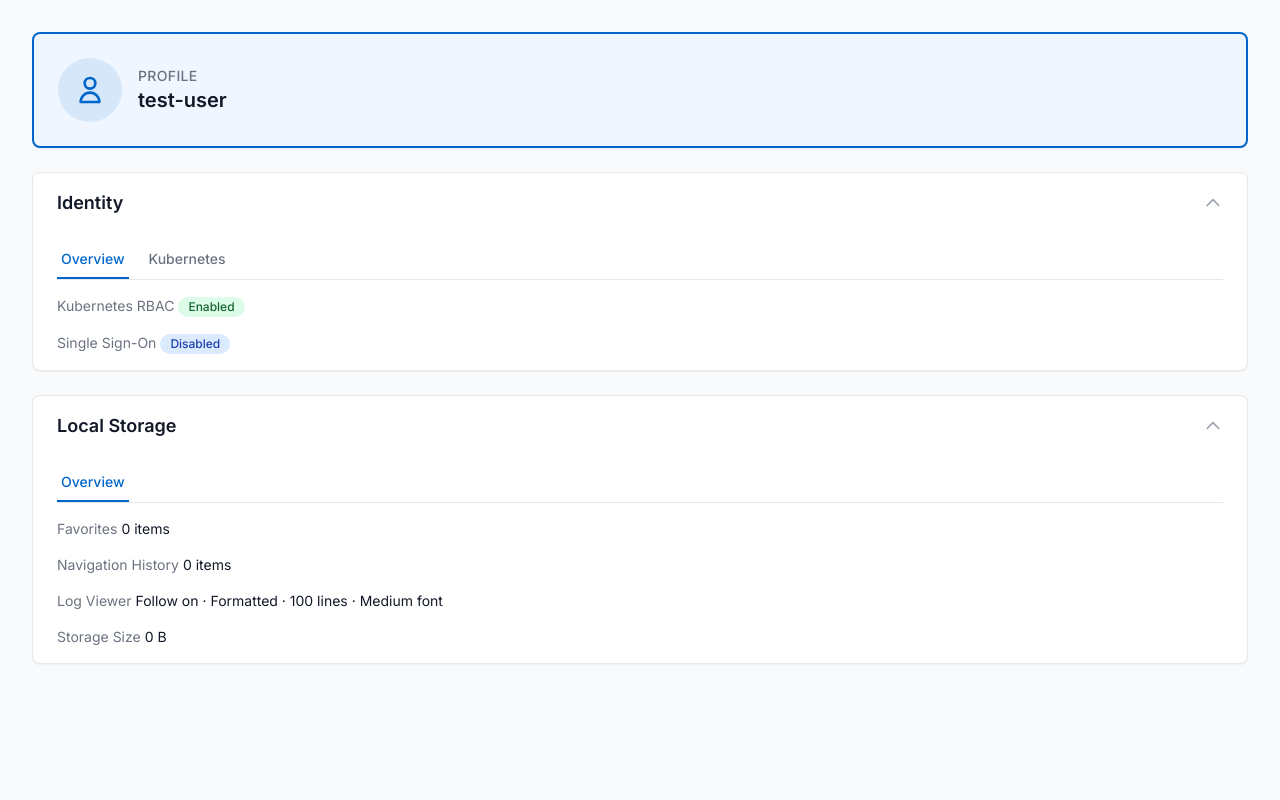
Scenario: ProfilePage › Identity Panel - Kubernetes Tab › should show impersonation JSON when Kubernetes tab is clicked
Note: Click Kubernetes tab
Click the button "Kubernetes": (187, 260) [144, 241, 230, 279]
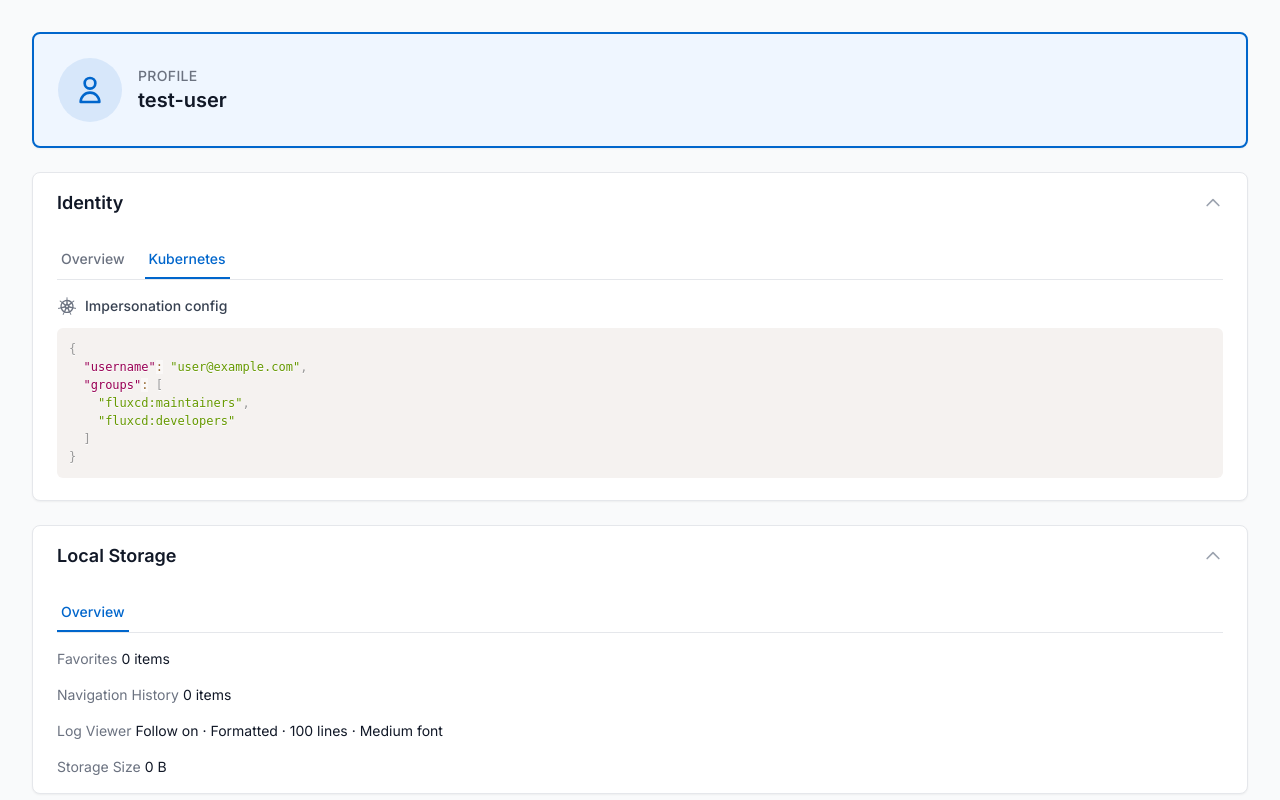
Result: the text "\"user@example.com\"" is shown at [170, 360, 300, 374]
Result: the text "\"fluxcd:maintainers\"" is shown at [98, 396, 242, 410]
